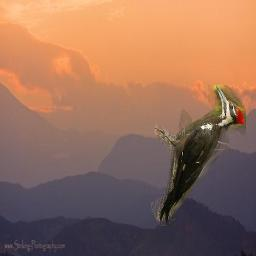Woodpecker: (151, 85, 246, 226)
